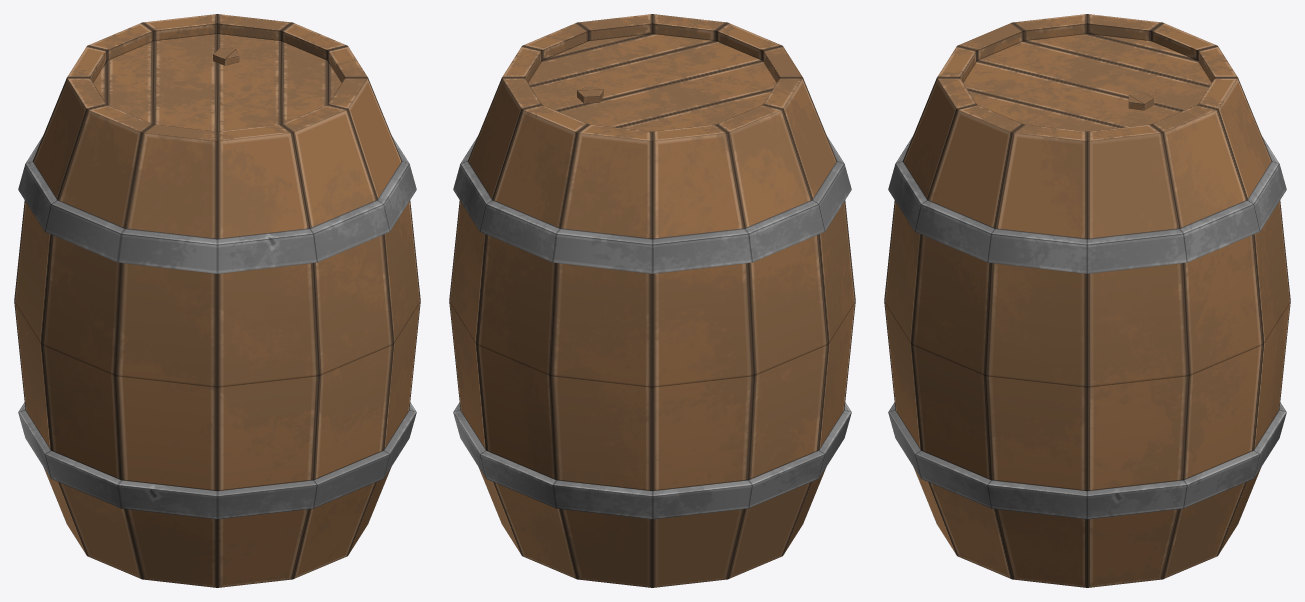
Rendered from Barrel.fbx.
The picture shows the model from 3 angles, left to right: view 1: azimuth 30°, elevation 25°; view 2: azimuth 150°, elevation 25°; view 3: azimuth 270°, elevation 25°; orthographic projection.
Parts seen in each view (by area): view 1: Barrel; view 2: Barrel; view 3: Barrel.
Part boxes in pixels (left/top/right/bottom): Barrel: left=14, top=14, right=420, bottom=587; Barrel: left=449, top=14, right=855, bottom=587; Barrel: left=884, top=14, right=1290, bottom=587.
Bounding box in the file's own units: 74.25 × 90 × 74.25.
